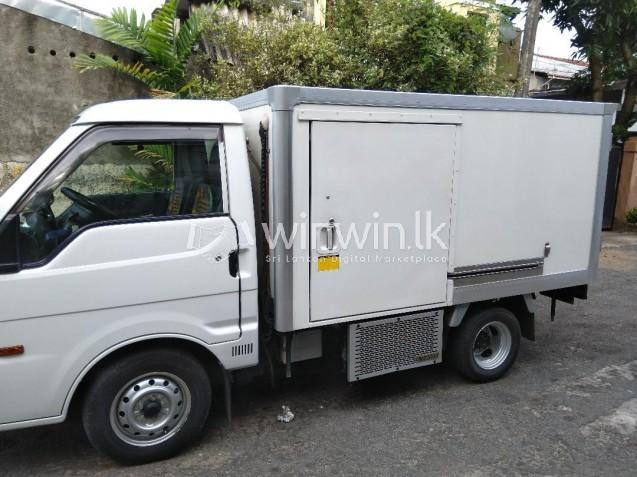truck: (3, 83, 622, 467)
